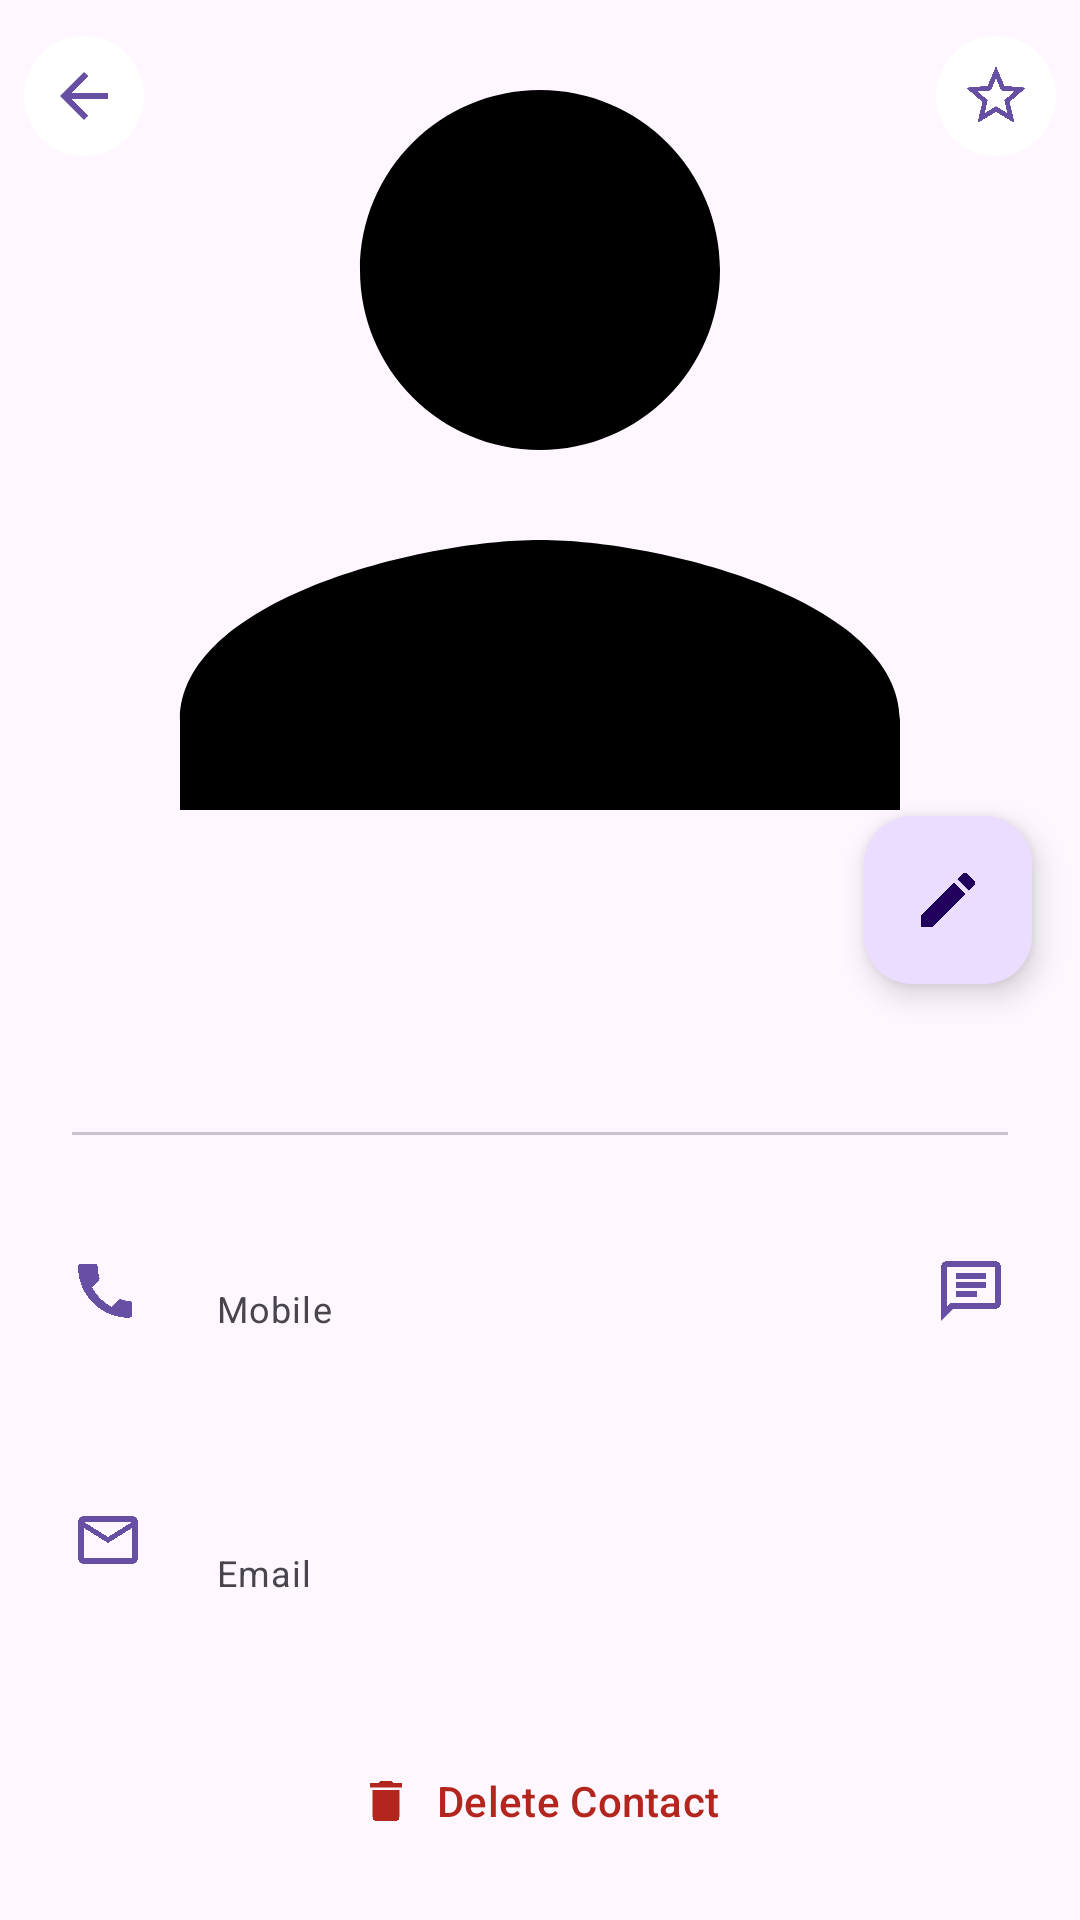

Named icons in this screenshot (1080×1920) and their bounding boxes, (x1, y1, x2, y2):
Back: (60, 72, 108, 120)
Call: (78, 1264, 132, 1318)
Edit Contact: (864, 816, 1032, 984)
Favorites: (967, 67, 1025, 122)
